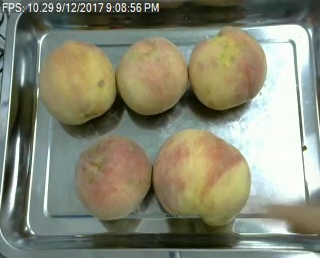Peach: (154, 128, 250, 225), (36, 38, 117, 126), (189, 25, 267, 110), (75, 134, 151, 219), (116, 36, 187, 115)
